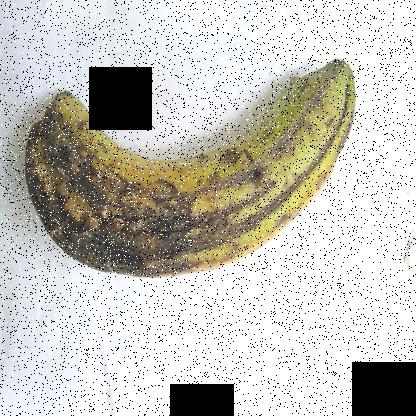rotten: (15, 48, 357, 296)
